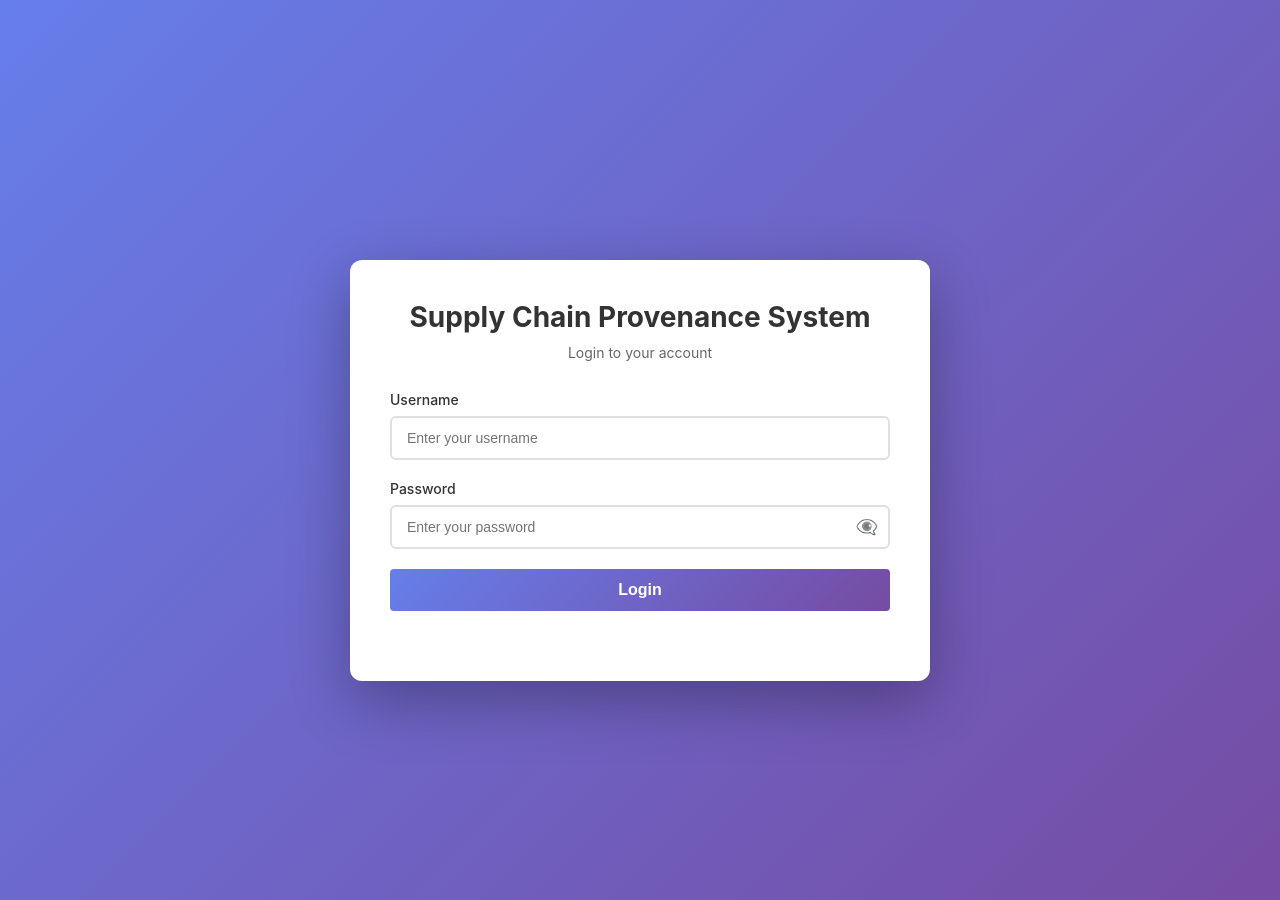
Test: Login Component › displays error message on failed login
In the field labelled "Username": (640, 438) 390,416 -> 890,460, type "wronguser"
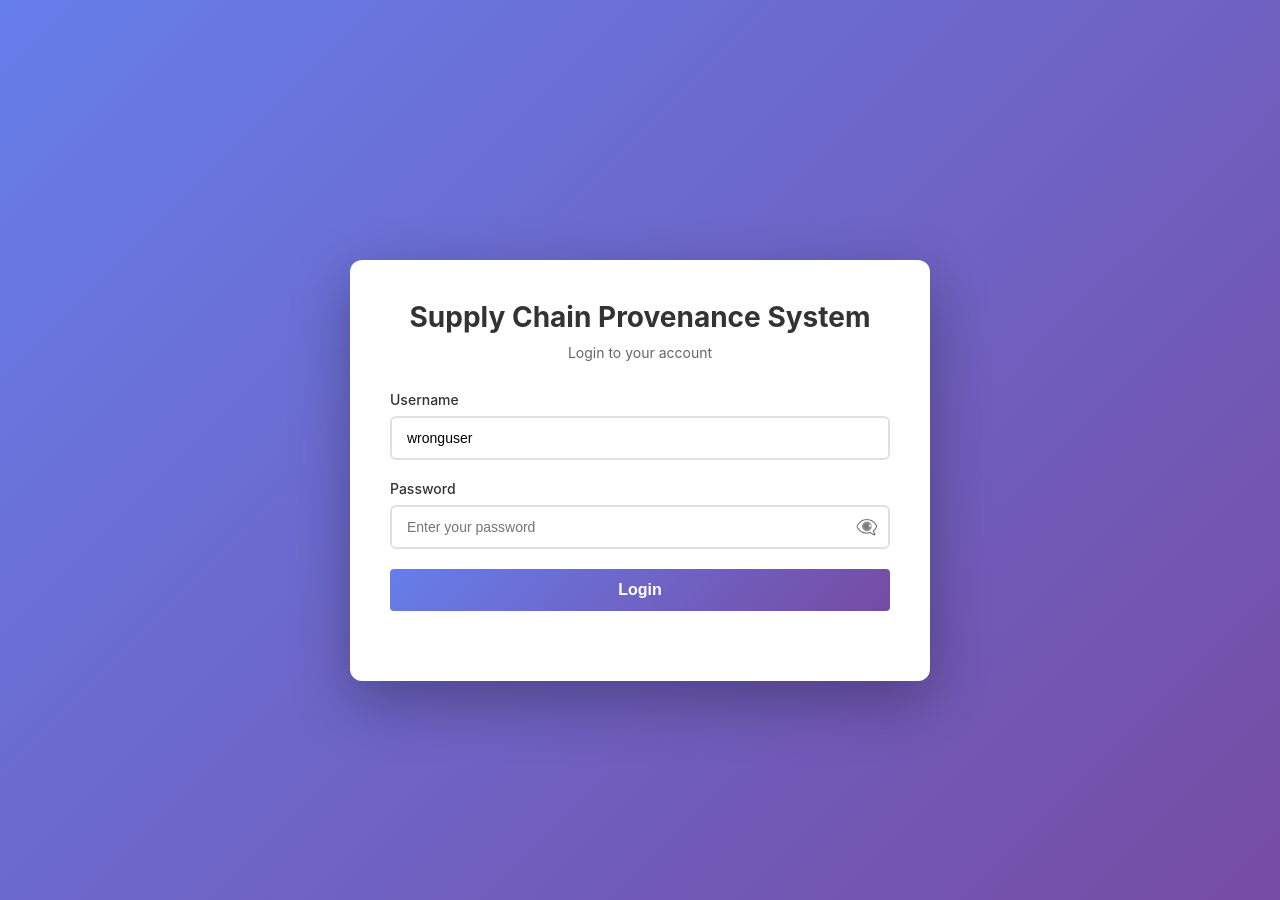
In the password field labelled "Password": (640, 526) 390,504 -> 890,548, type "wrongpass"
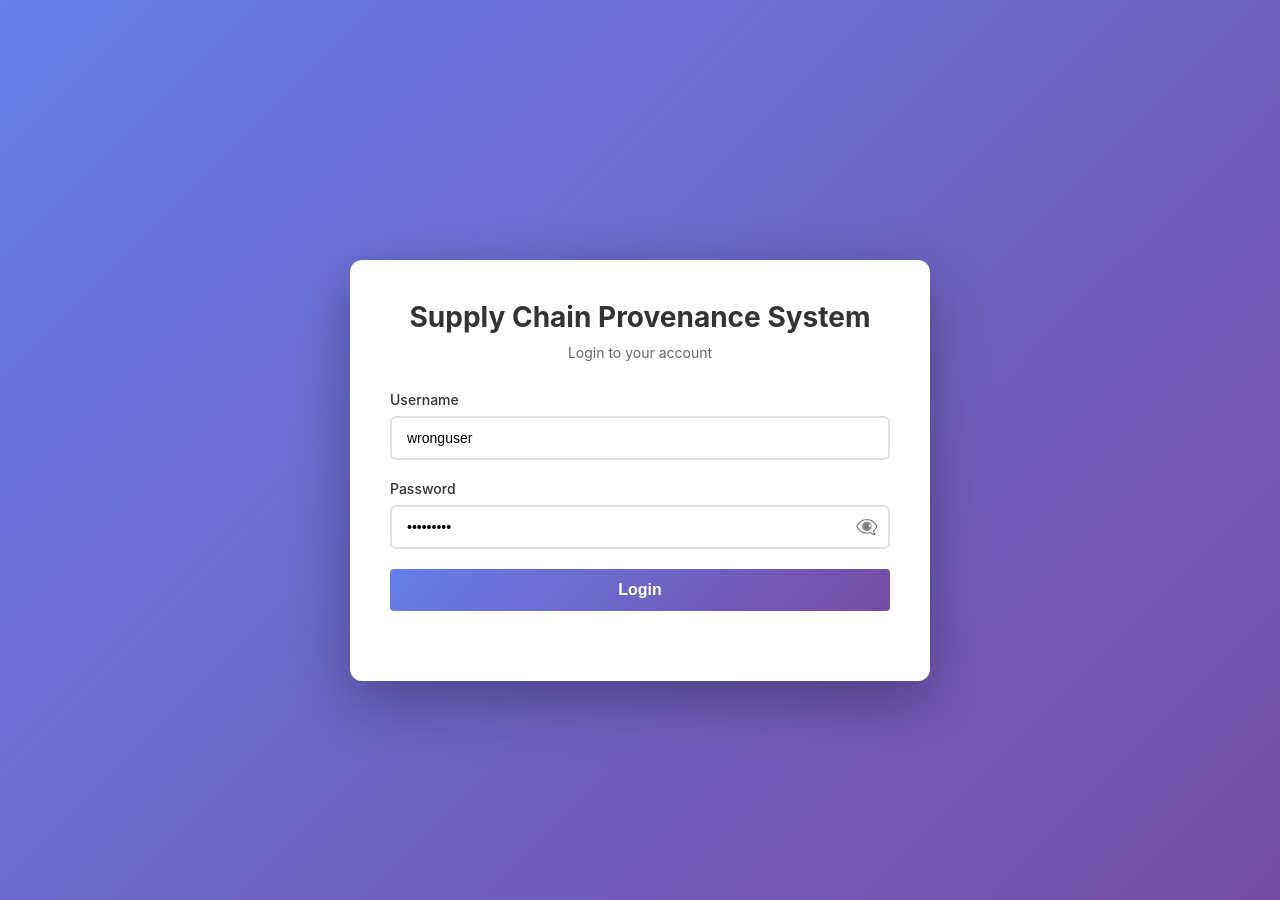
Click the button "Login": click(640, 590) 390,568 -> 890,610
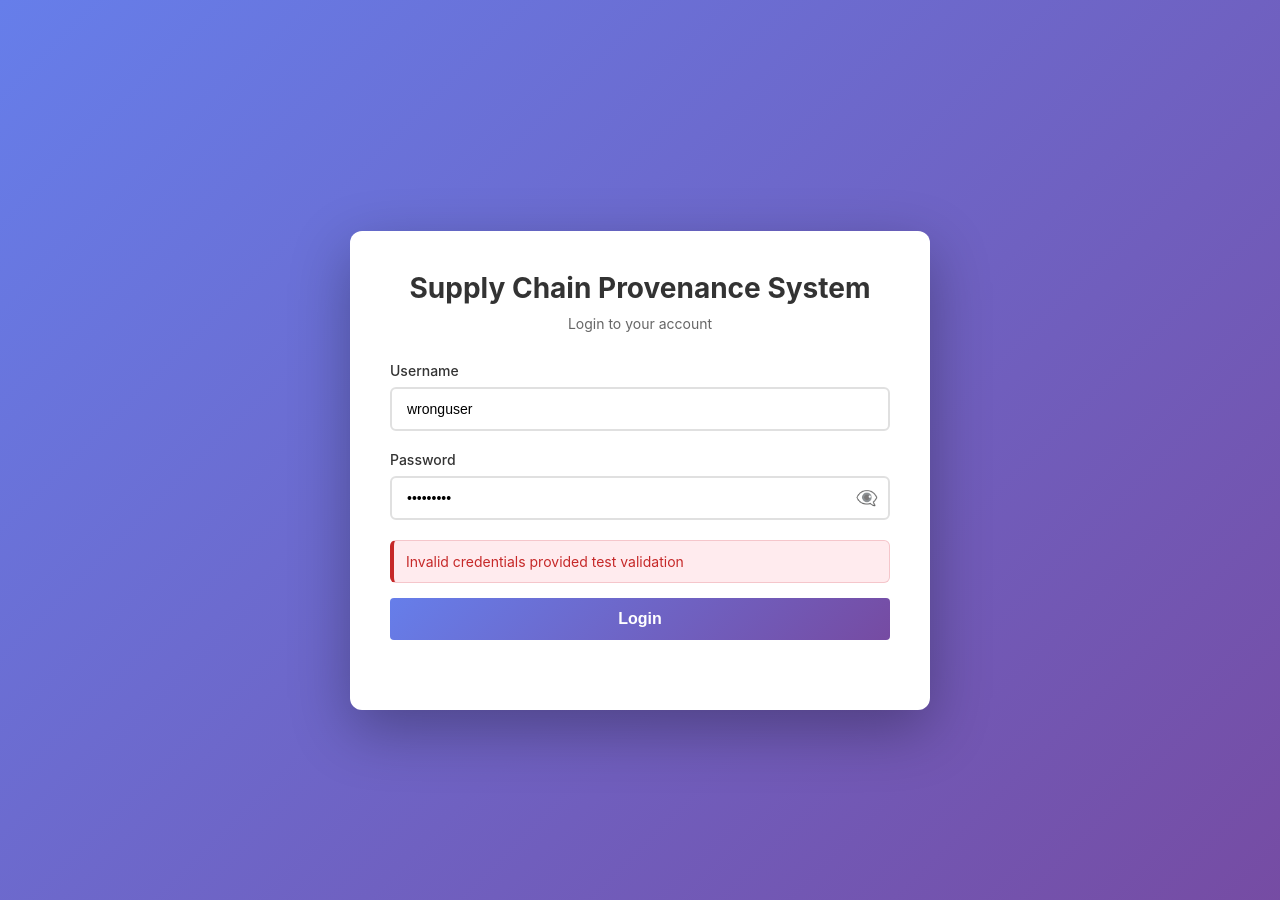
Check: the text "Invalid credentials provided test validation" is shown, box 390,540 -> 890,582
